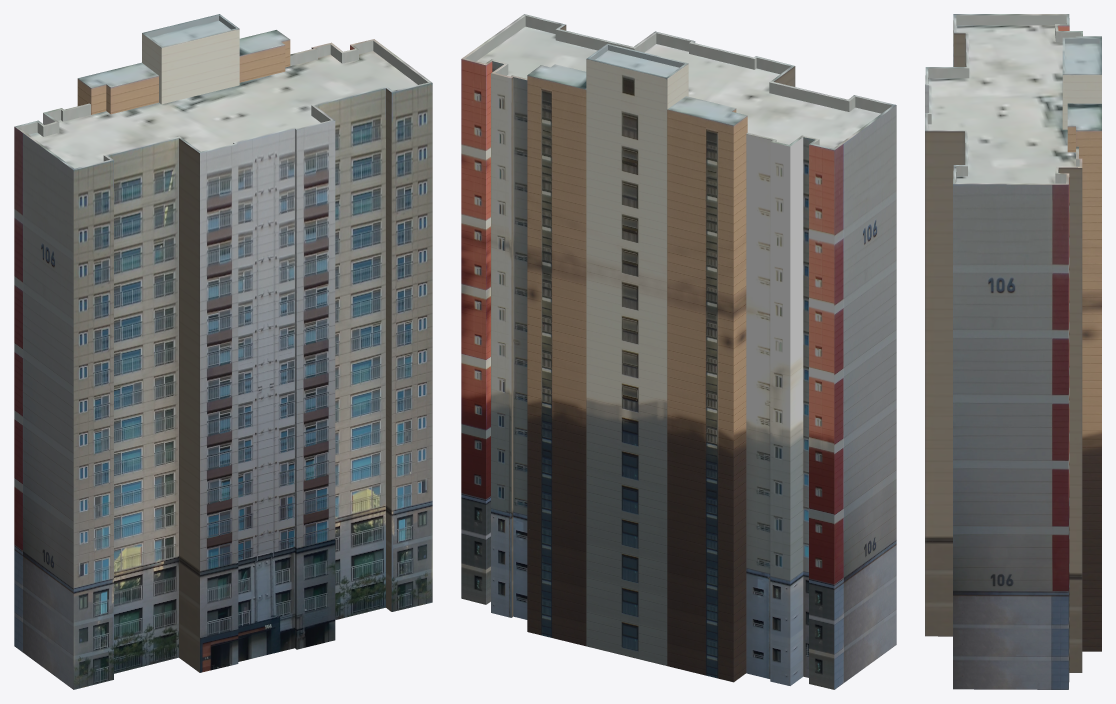
Rendered from apt-54m.glb.
3 renders of one model, left to right at view 1: azimuth 30°, elevation 25°; view 2: azimuth 150°, elevation 25°; view 3: azimuth 270°, elevation 25°, orthographic. The views are drawn at different scales.
Visible parts, largest first — view 1: APT_B; view 2: APT_B; view 3: APT_B.
Boxes of the visible parts, bbox=[...] form: APT_B: bbox=[14, 14, 432, 689]; APT_B: bbox=[461, 14, 896, 689]; APT_B: bbox=[925, 14, 1101, 689].
Bounding box in the file's own units: 36.21 × 54.37 × 15.85.
1 material, 1 textured.
